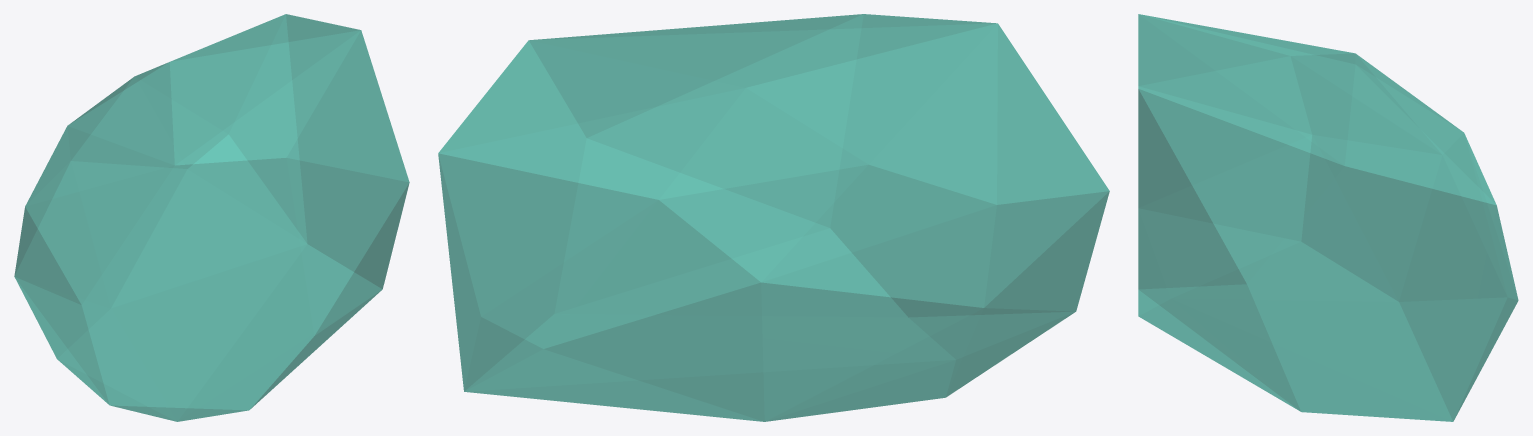
3 views of the same model, side by side, from view 1: azimuth 30°, elevation 25°; view 2: azimuth 150°, elevation 25°; view 3: azimuth 270°, elevation 25° (orthographic). The views are drawn at different scales.
Visible parts, largest first — view 1: Shape_IndexedFaceSet.016_Shape_IndexedFaceSet.4858; view 2: Shape_IndexedFaceSet.016_Shape_IndexedFaceSet.4858; view 3: Shape_IndexedFaceSet.016_Shape_IndexedFaceSet.4858.
Boxes of the visible parts, box(x1,y1,x2,y2) form: Shape_IndexedFaceSet.016_Shape_IndexedFaceSet.4858: box(14, 14, 409, 421); Shape_IndexedFaceSet.016_Shape_IndexedFaceSet.4858: box(438, 14, 1109, 421); Shape_IndexedFaceSet.016_Shape_IndexedFaceSet.4858: box(1138, 14, 1518, 421).
Size of the model in its own units: 0.0595 by 0.0406 by 0.0508.
